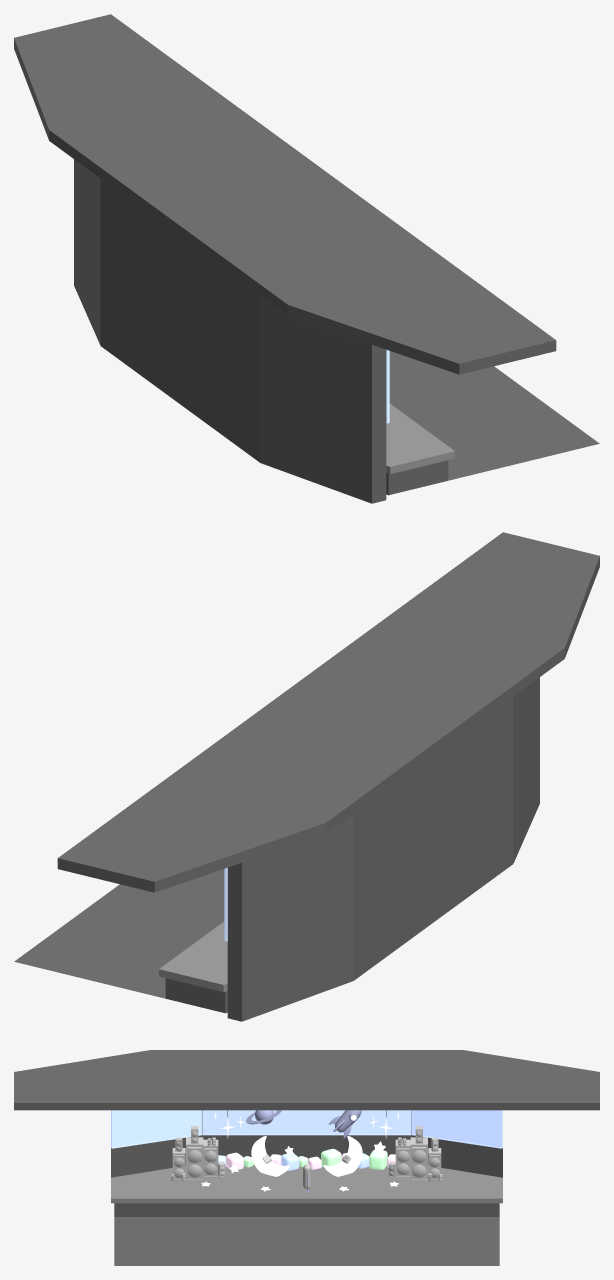
Rendered from ConcertTest.fbx.
3 renders of one model, top to bottom at view 1: azimuth 30°, elevation 25°; view 2: azimuth 150°, elevation 25°; view 3: azimuth 270°, elevation 25°, orthographic. The views are drawn at different scales.
Visible parts, largest first — view 1: Cube.018, Cube.017, Cube.006, Cube; view 2: Cube.018, Cube.017, Cube.006, Cube; view 3: Cube.018, Cube.006, Cube, Cube.017, Cube.005, Cube.001, Cube.019, Cube.008, Cube.007, Cube.009, rocket, Sphere.001 (+2 smaller).
Part boxes in pixels (<box>): Cube.018: <box>14,14,556,374</box>; Cube.017: <box>74,159,386,503</box>; Cube.006: <box>386,351,599,495</box>; Cube: <box>386,403,454,474</box>; Cube.018: <box>57,532,599,892</box>; Cube.017: <box>227,677,539,1021</box>; Cube.006: <box>14,869,227,1013</box>; Cube: <box>159,921,227,992</box>; Cube.018: <box>14,1050,599,1110</box>; Cube.006: <box>114,1203,499,1265</box>; Cube: <box>111,1164,502,1203</box>; Cube.017: <box>111,1110,502,1177</box>; Cube.005: <box>111,1110,502,1148</box>; Cube.001: <box>202,1110,411,1135</box>; Cube.019: <box>251,1136,362,1176</box>; Cube.008: <box>186,1137,427,1179</box>; Cube.007: <box>203,1139,410,1176</box>; Cube.009: <box>172,1148,441,1178</box>; rocket: <box>328,1110,361,1139</box>; Sphere.001: <box>246,1110,281,1124</box>.
Size of the model in its own units: 10.28 by 27.82 by 6.57.
